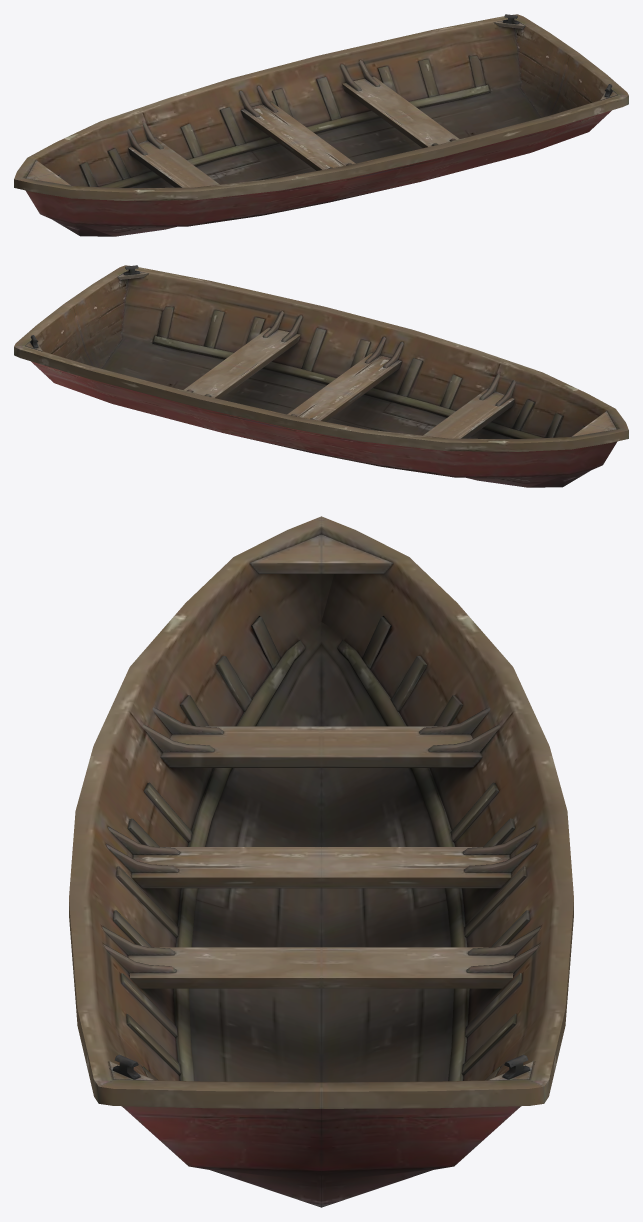
3 views of the same model, one above another, from view 1: azimuth 30°, elevation 25°; view 2: azimuth 150°, elevation 25°; view 3: azimuth 270°, elevation 25° (orthographic). The views are drawn at different scales.
Parts seen in each view (by area): view 1: body0_model0_lod0_mesh0; view 2: body0_model0_lod0_mesh0; view 3: body0_model0_lod0_mesh0.
Boxes of the visible parts, <box> form: body0_model0_lod0_mesh0: <box>14,14,628,236</box>; body0_model0_lod0_mesh0: <box>14,265,628,487</box>; body0_model0_lod0_mesh0: <box>69,516,573,1207</box>.
Size of the model in its own units: 217 by 32.44 by 84.13.
Materials: 1 (1 with a texture image).
